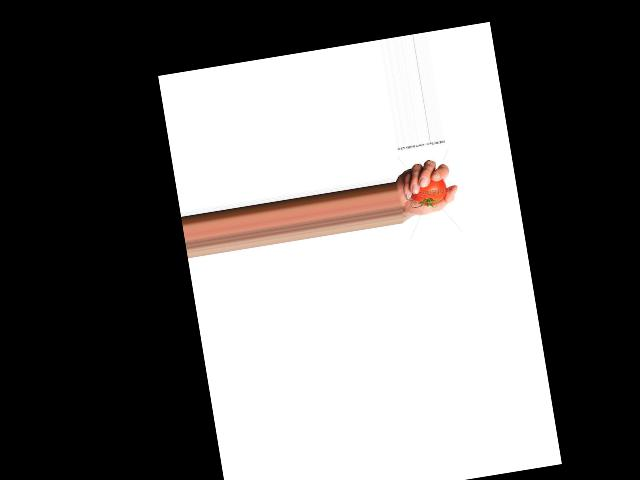tomato: (409, 178, 449, 208)
